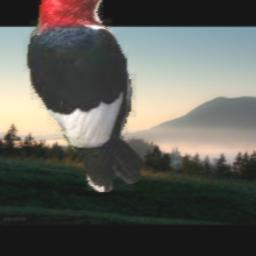Woodpecker: (23, 0, 142, 192)
